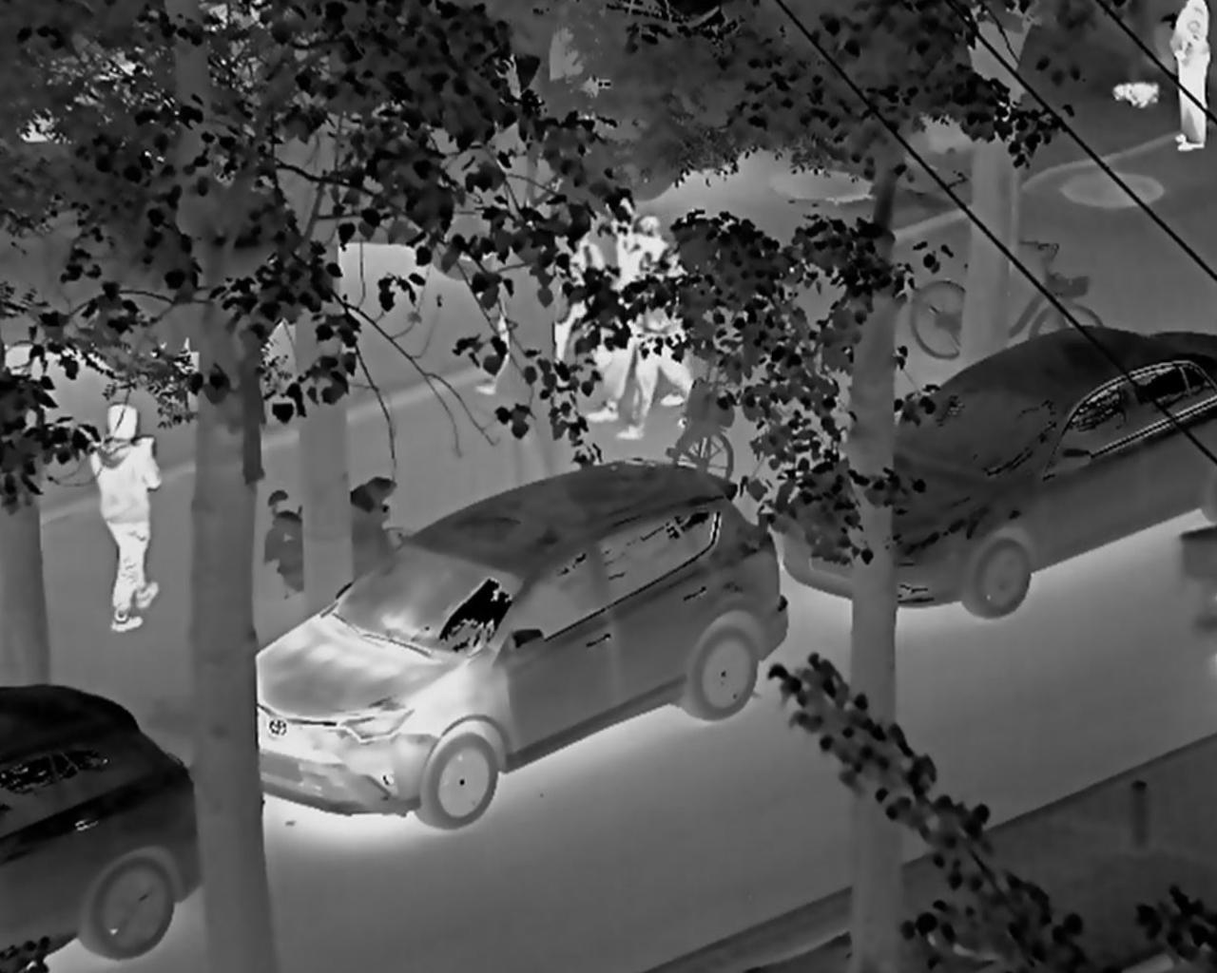person: (79, 383, 183, 639), (614, 214, 702, 447)
